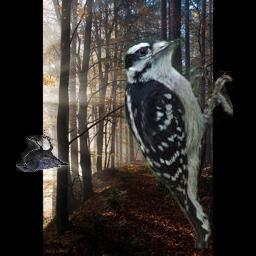Crow: (17, 136, 70, 173)
Woodpecker: (111, 34, 234, 249)
